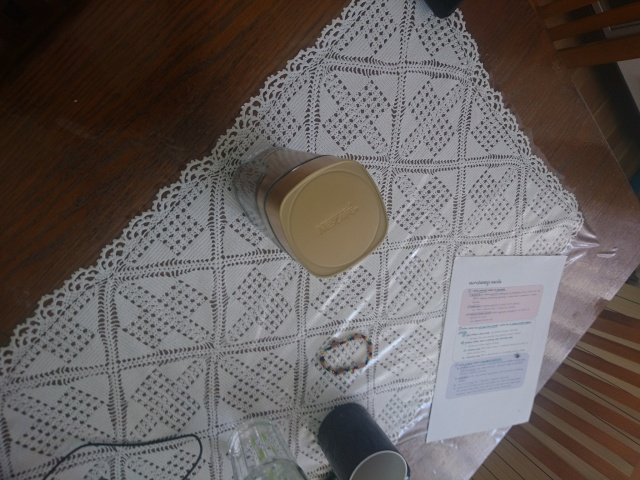Nescafe Gold 225g: (228, 144, 391, 281)
